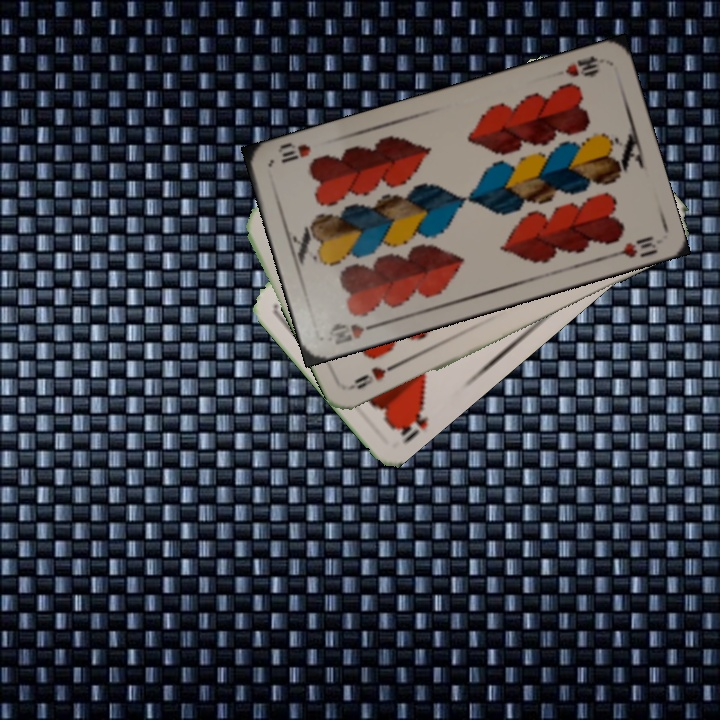H10: (323, 318, 382, 348), (561, 51, 601, 80)
H9: (347, 357, 403, 392)
HO: (388, 399, 431, 439)
